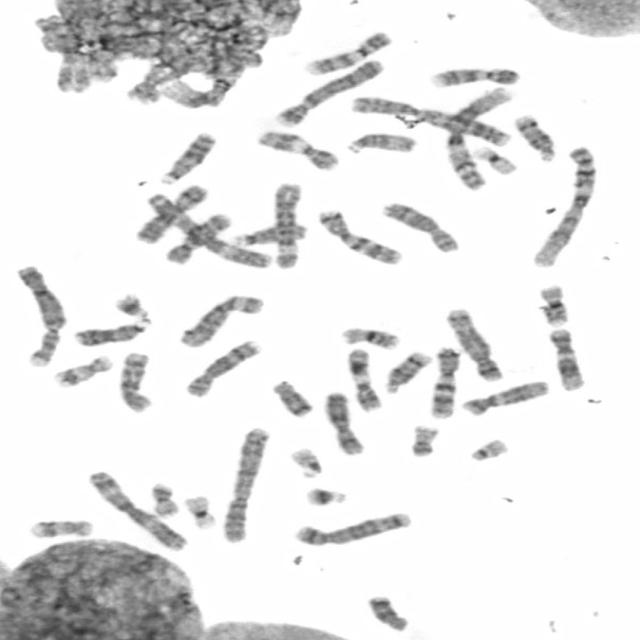A1: (527, 143, 600, 269), (438, 85, 514, 192)
A2: (346, 94, 514, 148), (218, 424, 272, 544)
A3: (142, 188, 274, 270), (85, 468, 189, 552)
B4: (269, 55, 386, 129), (15, 262, 68, 373)
B5: (441, 304, 505, 383), (290, 509, 415, 547)
C10: (162, 210, 234, 266), (114, 349, 156, 413)
C11: (253, 128, 341, 172), (344, 344, 384, 412)
C12: (458, 378, 550, 418), (544, 326, 587, 392)
C6: (175, 292, 266, 348), (268, 180, 304, 270)
C7: (314, 206, 404, 265), (424, 345, 462, 419)
C8: (181, 336, 262, 398), (378, 199, 461, 254)
C9: (300, 28, 393, 77), (424, 63, 522, 89)
D13: (155, 129, 217, 185), (71, 314, 152, 348)
D14: (509, 111, 558, 163), (380, 348, 432, 395)
D15: (227, 220, 310, 248), (342, 130, 419, 156)
E16: (336, 324, 402, 351), (534, 282, 572, 328)
E17: (49, 352, 114, 390), (24, 515, 94, 540)
E18: (361, 592, 411, 633), (268, 376, 315, 419)
F19: (472, 143, 519, 175), (182, 492, 218, 530)
F20: (146, 479, 180, 518), (406, 422, 440, 458)
G21: (110, 290, 151, 320), (301, 484, 349, 508)
G22: (286, 444, 326, 480), (466, 436, 511, 462)
X: (130, 181, 209, 245), (320, 388, 368, 456)
